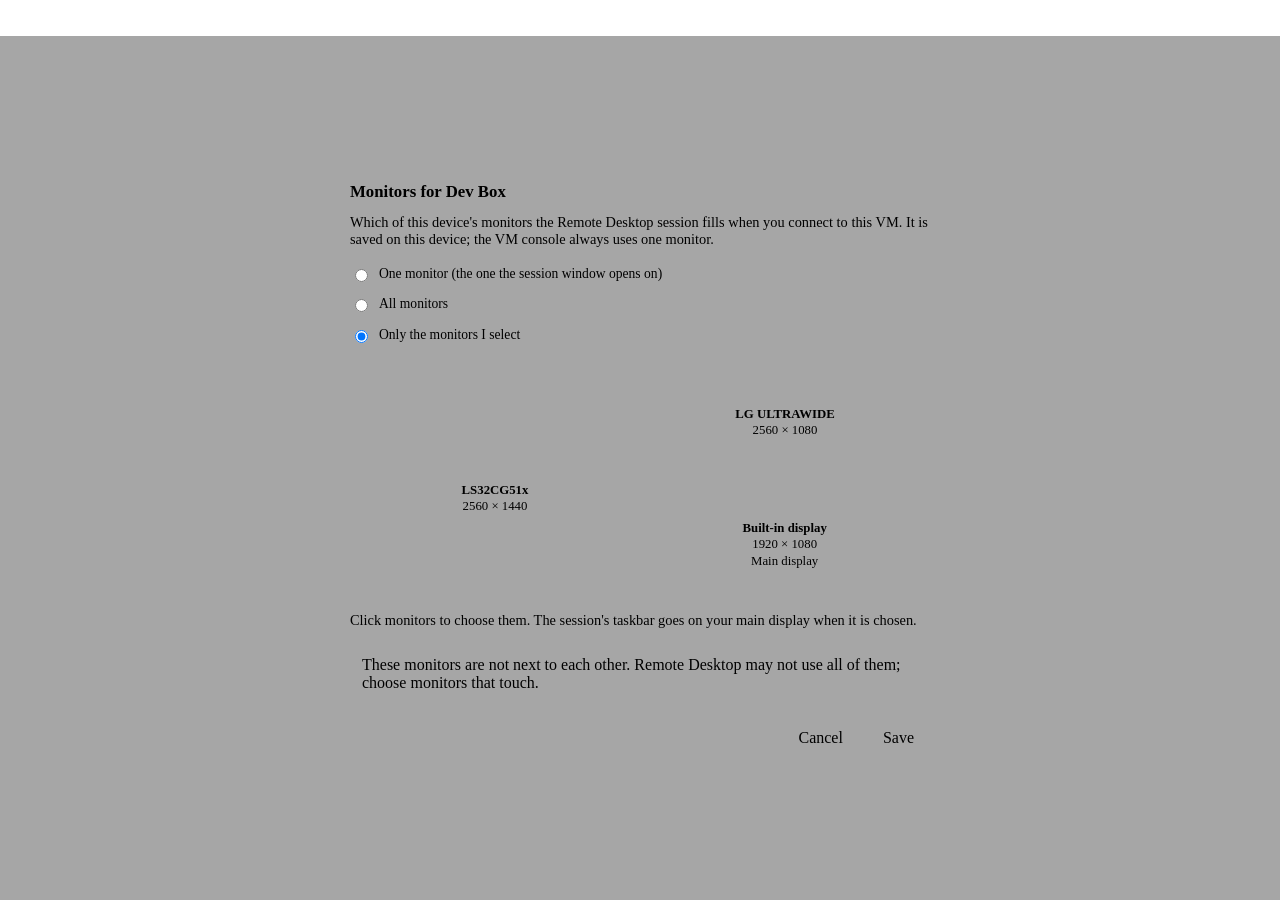
Test: MonitorsDialog › warns about a gap and blocks an empty selection
Expected: the text "not next to each other" is shown, [362, 656, 900, 691]
Click the button "Built-in display 1920 × 1080 Main display".
click(785, 545)  # box [676, 484, 893, 606]
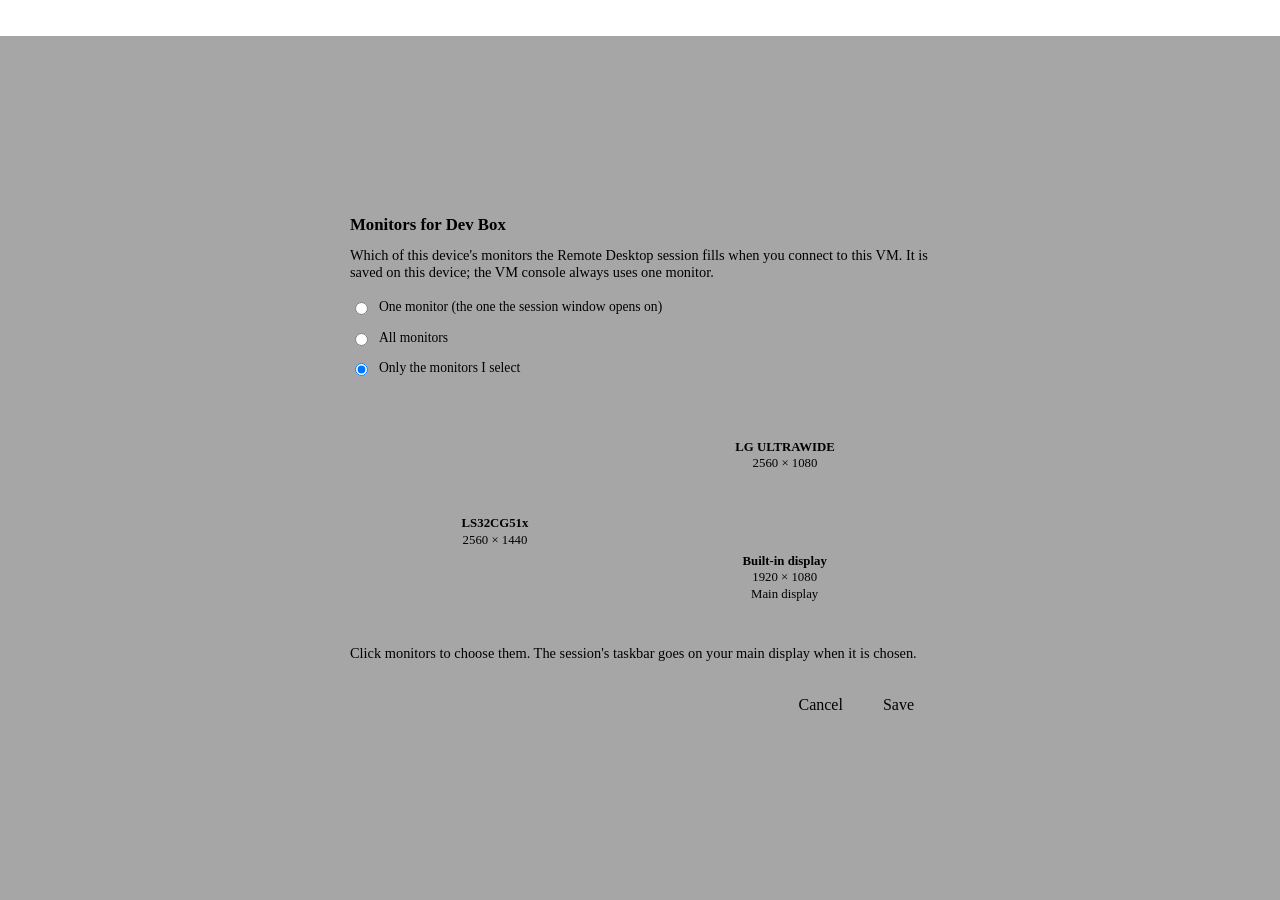
Click the button "LS32CG51x 2560 × 1440".
click(495, 532)  # box [350, 450, 640, 613]
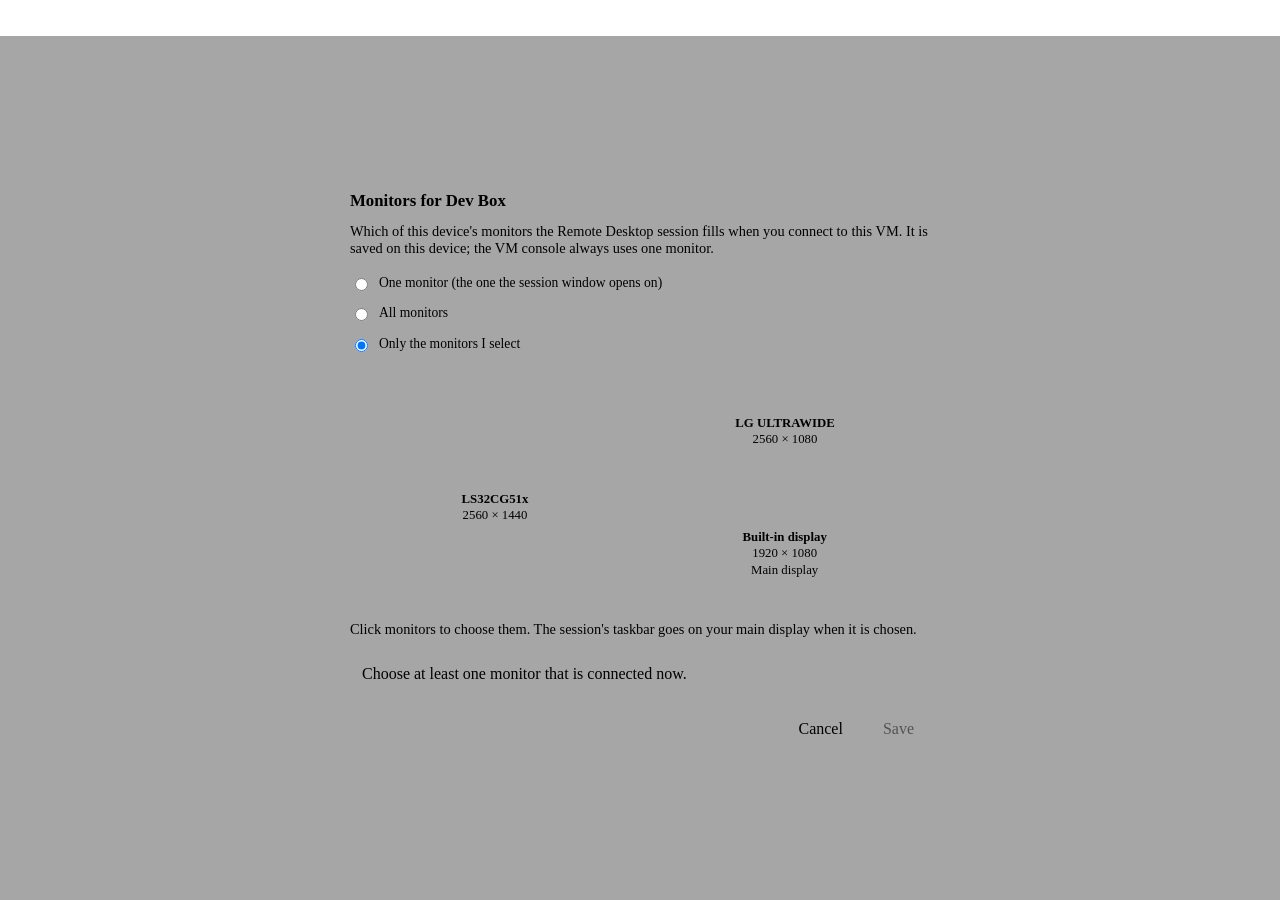
Result: the text "Choose at least one monitor that is connected now." is shown at [362, 665, 687, 682]
Result: the button "Save" is disabled at [867, 713, 930, 745]
